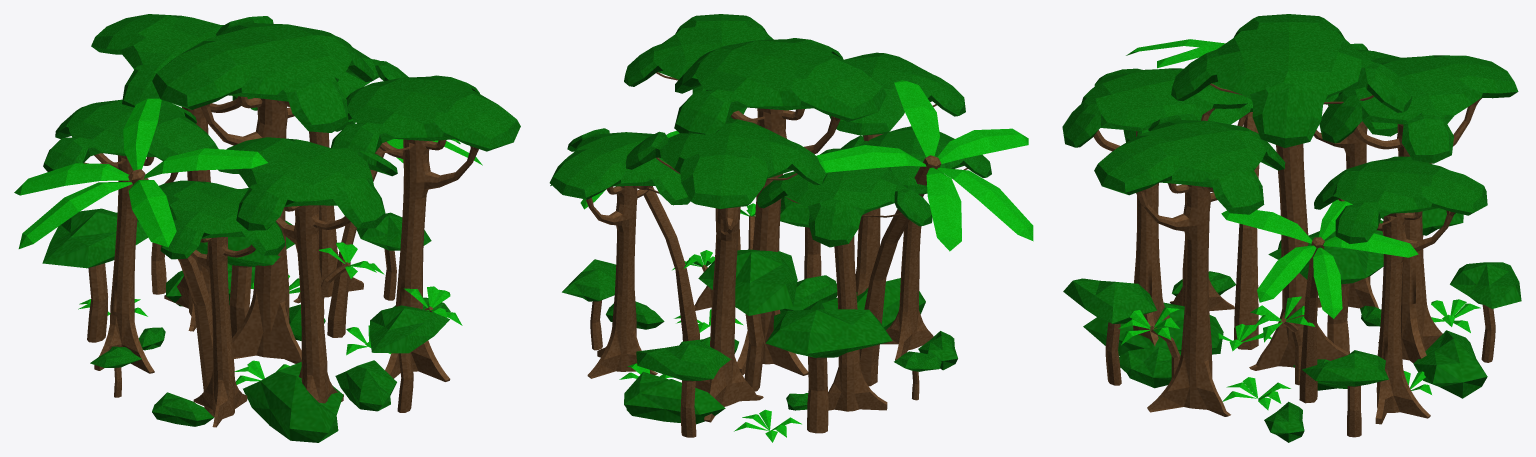
The model's file is Rainforest add on 2.4B.fbx.
3 views of the same model, side by side, from view 1: azimuth 30°, elevation 25°; view 2: azimuth 150°, elevation 25°; view 3: azimuth 270°, elevation 25° (orthographic). The views are drawn at different scales.
Visible parts, largest first — view 1: Many Trees, 1 tree, Medium Trees, Palm tree1, Bush, Palm tree2, Foliage; view 2: Many Trees, Medium Trees, 1 tree, Palm tree1, Bush, Palm tree2, Foliage; view 3: Many Trees, 1 tree, Medium Trees, Bush, Palm tree2, Palm tree1, Foliage.
Boxes of the visible parts, box(x1,y1,x2,y2) form: Many Trees: box(43, 14, 520, 427); 1 tree: box(152, 16, 373, 363); Medium Trees: box(42, 208, 462, 412); Palm tree1: box(14, 98, 267, 417); Bush: box(138, 264, 450, 442); Palm tree2: box(327, 139, 482, 337); Foliage: box(78, 275, 391, 384); Many Trees: box(549, 14, 991, 422); Medium Trees: box(562, 196, 941, 437); 1 tree: box(674, 38, 886, 375); Palm tree1: box(816, 80, 1033, 386); Bush: box(606, 275, 957, 424); Palm tree2: box(550, 130, 699, 341); Foliage: box(619, 309, 801, 442); Many Trees: box(1062, 43, 1518, 424); 1 tree: box(1171, 14, 1411, 370); Medium Trees: box(1063, 208, 1521, 437); Bush: box(1083, 271, 1487, 442); Palm tree2: box(1221, 199, 1418, 403); Palm tree1: box(1126, 39, 1259, 349); Foliage: box(1218, 299, 1480, 410).
Bounding box in the file's own units: 1.76 × 1.2 × 1.48.
1 material, 1 textured.
